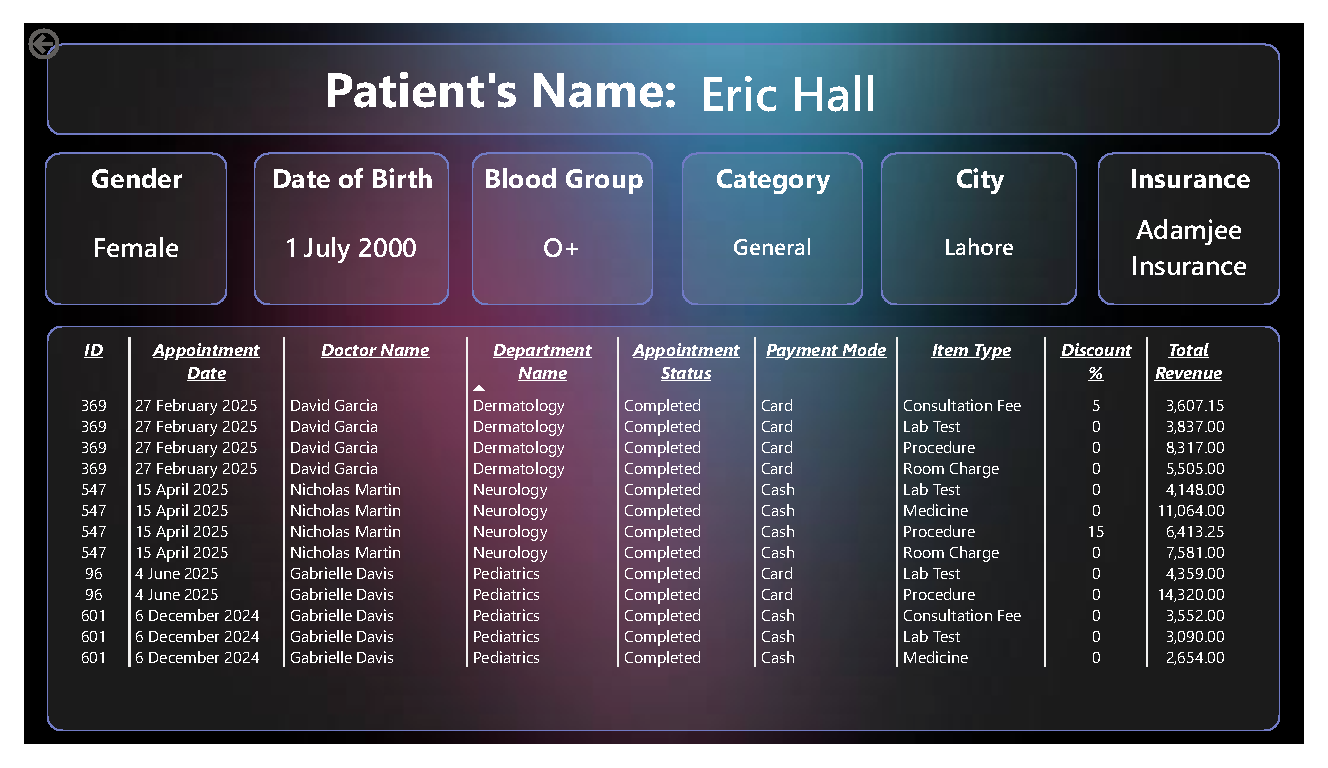

This screenshot's page, from the dashboard's own definition file:
{"tool":"powerbi","page":{"name":"Appointment Details","canvas":[1280,720],"ordinal":3},"visuals":[{"type":"textbox","box":[22.7,19.8,1233.1,90.7],"z":0},{"type":"cardVisual","title":"No-Show Appointment %","fields":{"Data":["Min(public patients.Patient Name)"]},"box":[657.6,19.8,599.5,90.7],"z":1000},{"type":"actionButton","box":[0,0,100,40],"z":2000},{"type":"cardVisual","title":"Gender","fields":{"Data":["Min(public patients.gender)"]},"box":[21.3,129,181.4,151.7],"z":3000},{"type":"cardVisual","title":"Date of Birth","fields":{"Data":["Min(public patients.Date of Birth)"]},"box":[229.6,129,195.6,151.7],"z":4000},{"type":"cardVisual","title":"Blood Group","fields":{"Data":["Min(public patients.blood_group)"]},"box":[447.9,129,181.4,151.7],"z":5000},{"type":"cardVisual","title":"Category","fields":{"Data":["Min(public patients.patient_category)"]},"box":[657.6,129,181.4,151.7],"z":6000},{"type":"cardVisual","title":"City","fields":{"Data":["Min(public patients.city)"]},"box":[857.5,129,195.6,151.7],"z":7000},{"type":"cardVisual","title":"Insurance","fields":{"Data":["Min(public insurance_providers.provider_name)"]},"box":[1074.3,129,181.4,151.7],"z":8000},{"type":"tableEx","title":"Top 10 Patients by Revenue","fields":{"Values":["public appointments.appointment_id","public appointments.appointment_date","public doctors.Doctor Name","public departments.department_name","public appointments.Appointment Status","public appointments.Payment Mode","public billing_items.item_type","public billing_items.discount_pct","Measure Table.Total Billed Revenue"]},"box":[22.7,301.9,1233.1,405.4],"z":9000}]}

Visuals, with their boxes in screenshot pixels (x1, y1, x2, y2), scaled from the page's 1280x720 canvas onto the 1328x768 screenshot:
textbox: Rect(24, 21, 1303, 118)
"No-Show Appointment %" cardVisual: Rect(682, 21, 1304, 118)
actionButton: Rect(0, 0, 104, 43)
"Gender" cardVisual: Rect(22, 138, 210, 299)
"Date of Birth" cardVisual: Rect(238, 138, 441, 299)
"Blood Group" cardVisual: Rect(465, 138, 653, 299)
"Category" cardVisual: Rect(682, 138, 870, 299)
"City" cardVisual: Rect(890, 138, 1093, 299)
"Insurance" cardVisual: Rect(1115, 138, 1303, 299)
"Top 10 Patients by Revenue" tableEx: Rect(24, 322, 1303, 754)
